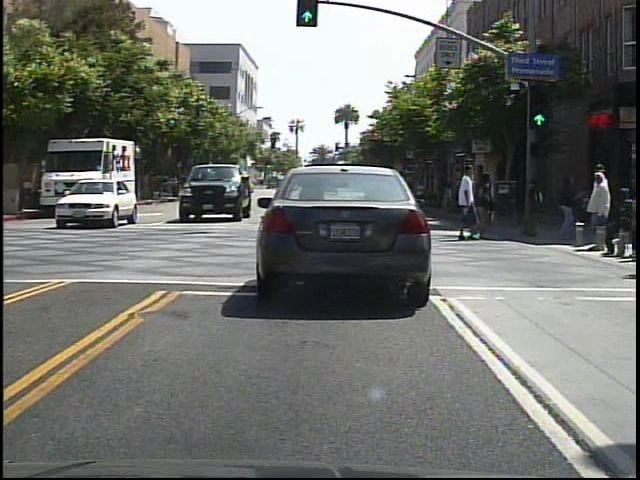person: (450, 162, 486, 246), (590, 167, 615, 258), (552, 171, 582, 243), (526, 172, 549, 236)
